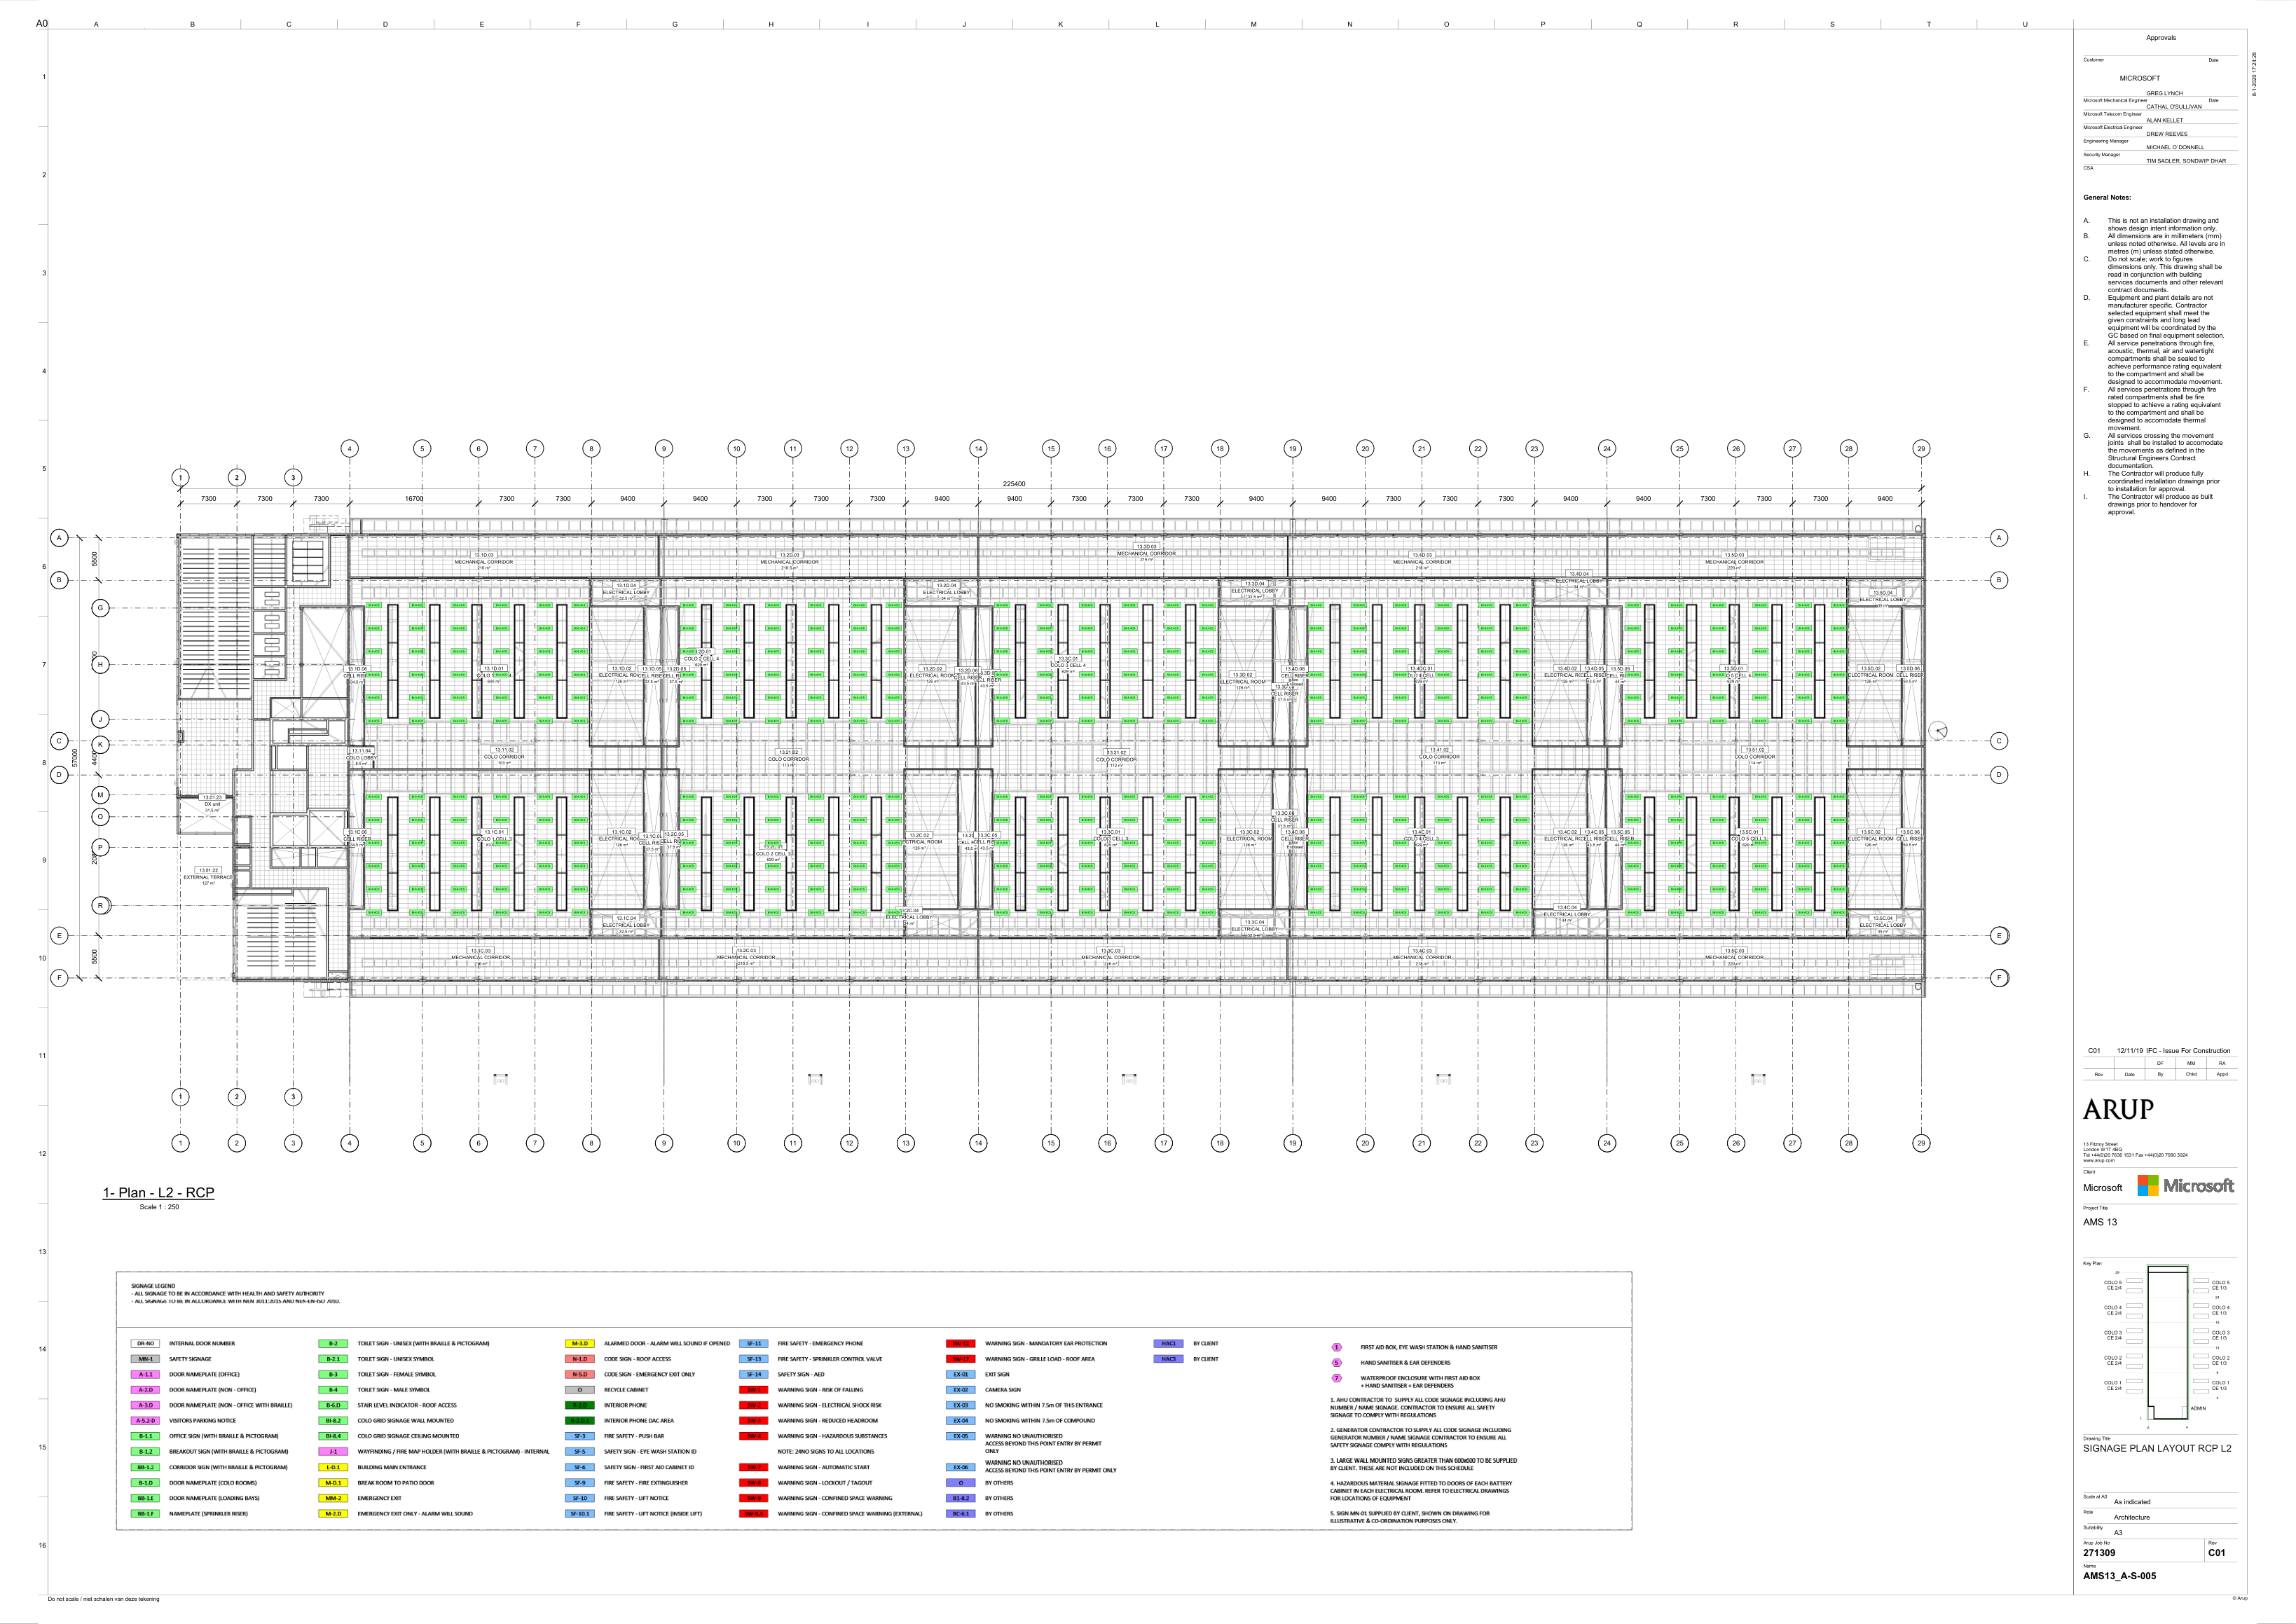Legend: (116, 1272, 1632, 1529)
